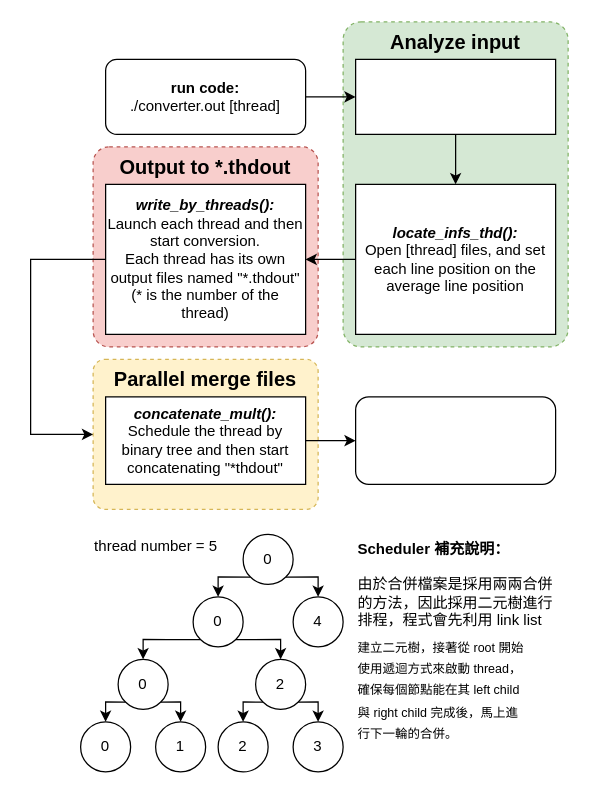
The diagram is 603 pixels wide and 794 high, and some of its shapes have lost their labels. The centre of each missing label's shape, as x and y in pixels:
getFileline(): Analyze total line number of "input.csv": point (455, 96)
Print execution time and then terminate the program.: point (455, 440)
